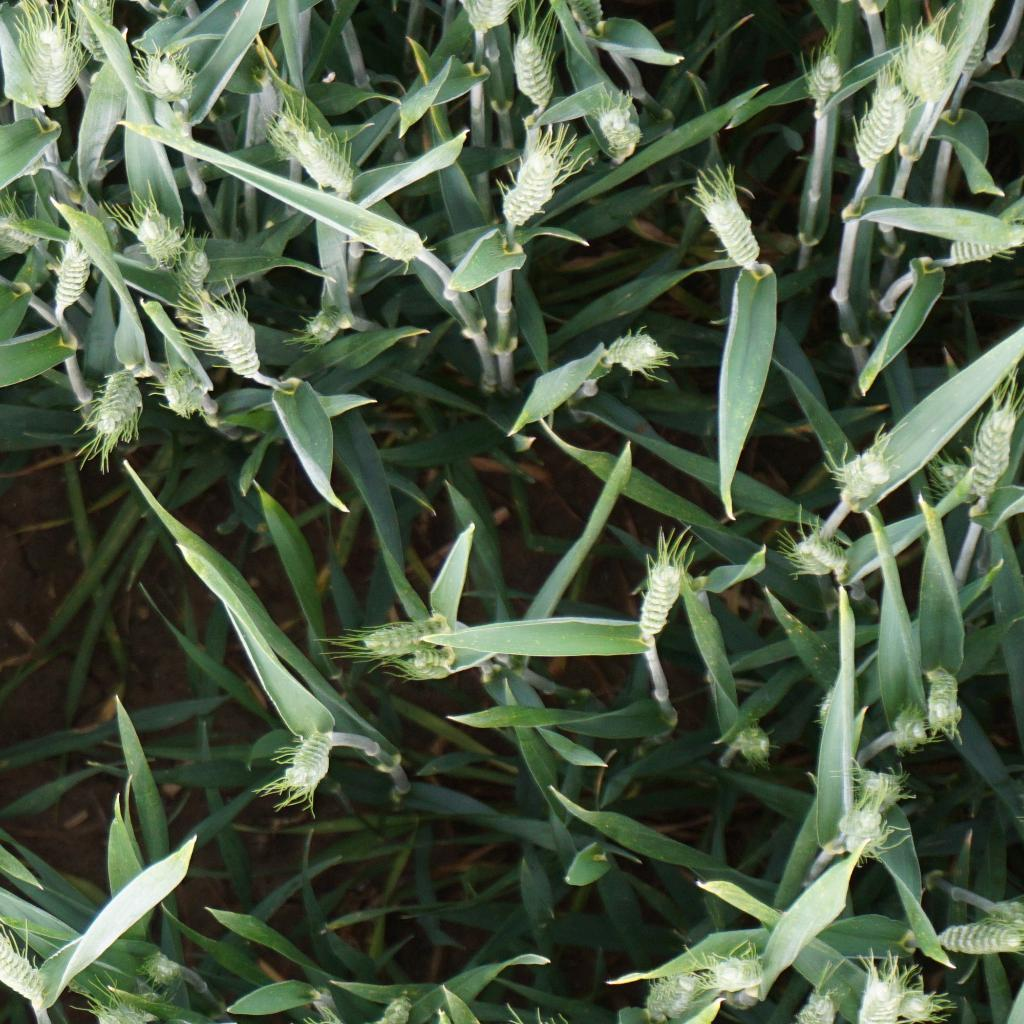0-0: (264, 99, 356, 197), (498, 117, 574, 230), (685, 172, 763, 270), (184, 297, 266, 389), (846, 69, 915, 169), (888, 29, 971, 112), (15, 14, 86, 111), (83, 364, 153, 459), (963, 394, 1020, 508), (40, 233, 102, 330), (826, 446, 914, 514), (583, 92, 644, 177), (0, 910, 54, 1006), (636, 554, 694, 640), (911, 917, 1024, 961), (135, 44, 207, 112), (950, 209, 1024, 271), (284, 724, 344, 799), (915, 666, 972, 743), (105, 206, 188, 257), (598, 327, 682, 377), (345, 619, 462, 654), (867, 980, 960, 1024), (793, 520, 853, 587), (828, 803, 896, 860), (929, 449, 999, 504), (643, 969, 712, 1024), (170, 238, 211, 322), (799, 45, 858, 103), (709, 950, 780, 997), (515, 35, 561, 107), (74, 0, 120, 64), (357, 228, 434, 265), (158, 366, 209, 421), (855, 963, 900, 1024), (409, 634, 457, 681), (301, 299, 349, 346), (3, 214, 54, 255), (790, 984, 842, 1024), (362, 990, 423, 1024), (134, 947, 182, 990), (80, 1001, 168, 1024), (731, 719, 772, 765), (853, 768, 901, 806), (563, 0, 616, 34), (887, 716, 936, 752), (0, 239, 12, 291)
